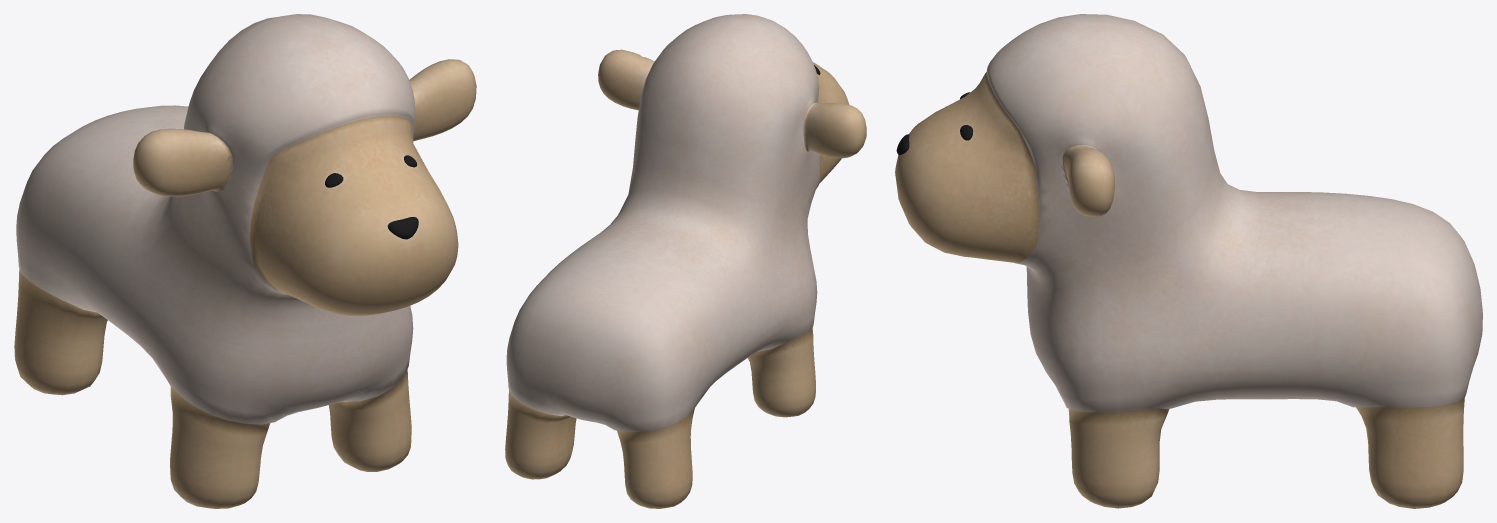
Rendered from Stuffed Sheep Toy.fbx.
3 views of the same model, side by side, from view 1: azimuth 30°, elevation 25°; view 2: azimuth 150°, elevation 25°; view 3: azimuth 270°, elevation 25° (orthographic). The views are drawn at different scales.
Visible parts, largest first — view 1: Cube.010_Sheep_0, Cube.011_Sheep_0; view 2: Cube.010_Sheep_0; view 3: Cube.010_Sheep_0.
Part boxes in pixels (<box>): Cube.010_Sheep_0: <box>14,14,476,508</box>; Cube.011_Sheep_0: <box>387,217,418,239</box>; Cube.010_Sheep_0: <box>505,14,866,508</box>; Cube.010_Sheep_0: <box>895,14,1482,508</box>.
Size of the model in its own units: 0.2022 by 0.2672 by 0.3225.
1 material, 1 textured.
